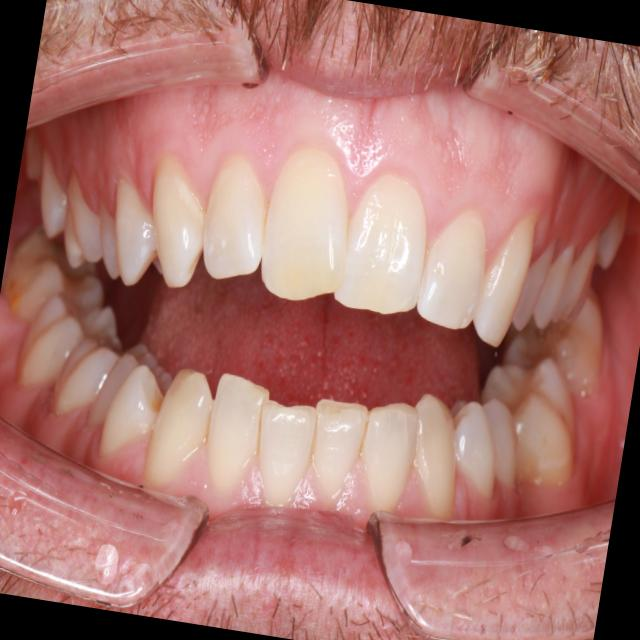tooth: (241, 125, 377, 329), (324, 166, 446, 342), (463, 344, 595, 496), (181, 138, 294, 309), (496, 273, 625, 415), (403, 185, 504, 355), (0, 282, 130, 407), (125, 146, 226, 302), (465, 177, 547, 369), (137, 350, 229, 502), (338, 383, 434, 520), (0, 220, 117, 331), (392, 385, 480, 530), (241, 381, 329, 525), (191, 360, 280, 500), (93, 164, 182, 298), (294, 384, 379, 508), (88, 355, 170, 473), (42, 159, 119, 283), (435, 400, 513, 509), (45, 324, 117, 435), (465, 392, 535, 503), (23, 138, 82, 258), (553, 213, 607, 341), (79, 341, 143, 442), (80, 194, 138, 294), (529, 226, 579, 342), (511, 231, 560, 347), (588, 179, 636, 279), (17, 127, 53, 193)
